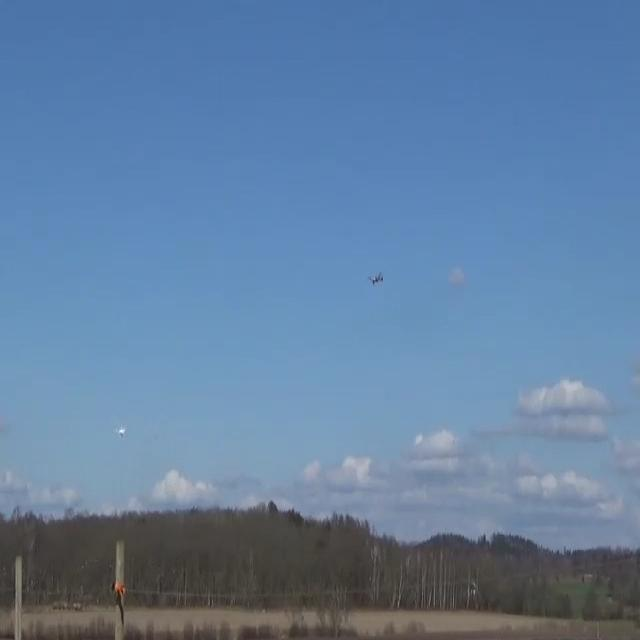drone: (367, 271, 383, 285), (116, 427, 126, 437)
